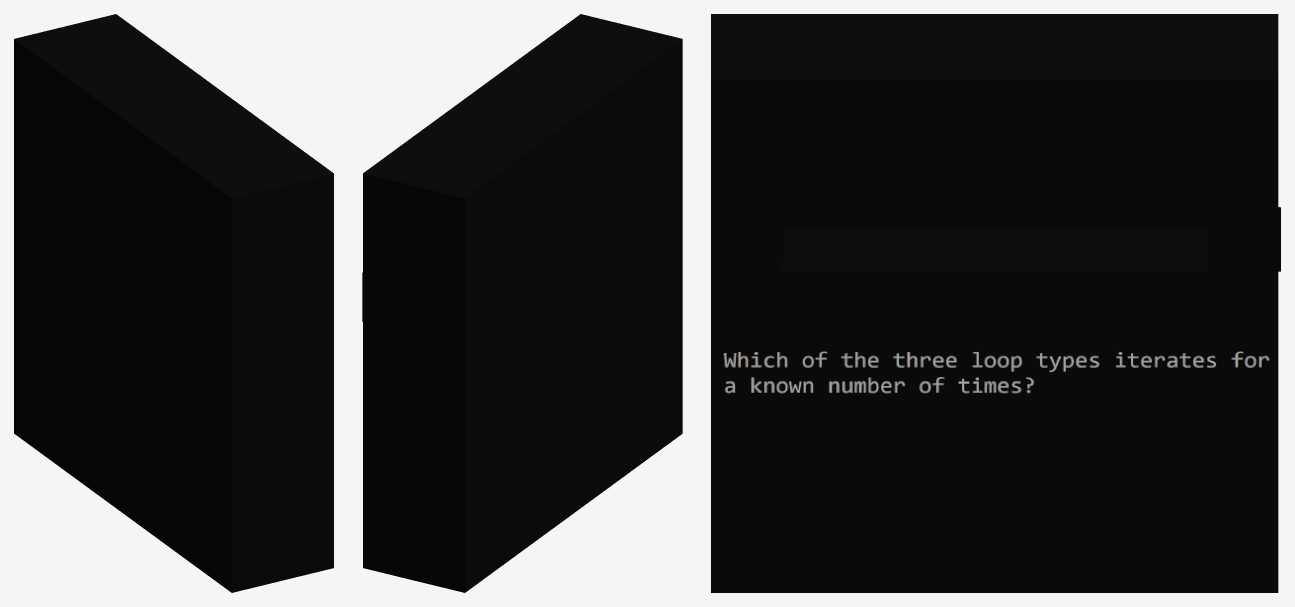
The model's file is lvl3-lock.fbx.
3 renders of one model, left to right at view 1: azimuth 30°, elevation 25°; view 2: azimuth 150°, elevation 25°; view 3: azimuth 270°, elevation 25°, orthographic. The views are drawn at different scales.
Parts seen in each view (by area): view 1: Cube; view 2: Cube; view 3: Cube.
Part boxes in pixels (x1=…): Cube: x1=14, y1=14, x2=333, y2=592; Cube: x1=362, y1=14, x2=682, y2=592; Cube: x1=711, y1=14, x2=1280, y2=592.
Size of the model in its own units: 54.12 by 200 by 201.
